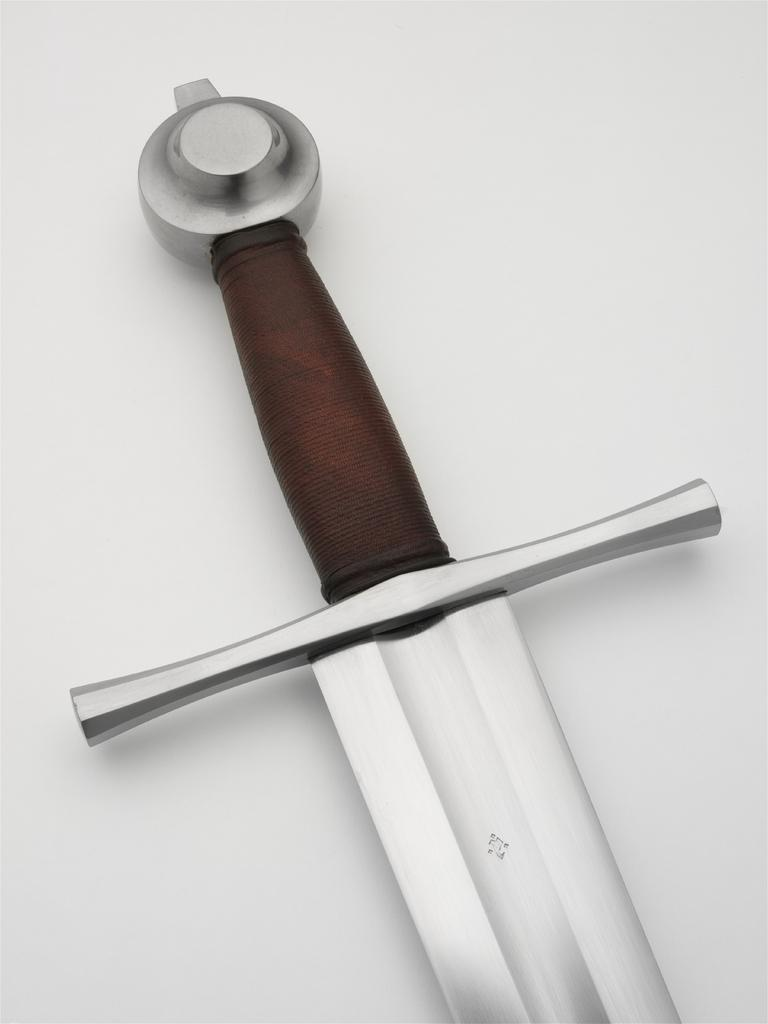Sword: (69, 76, 722, 1023)
